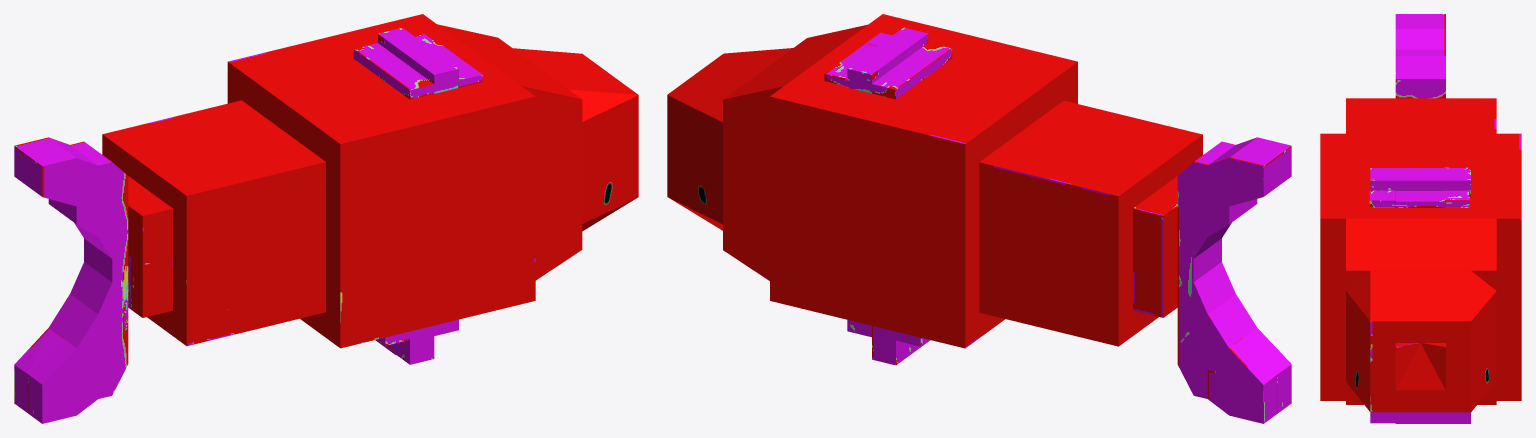
The model's file is dangerFish.obj.
3 views of the same model, side by side, from view 1: azimuth 30°, elevation 25°; view 2: azimuth 150°, elevation 25°; view 3: azimuth 270°, elevation 25° (orthographic). The views are drawn at different scales.
Visible parts, largest first — view 1: 立方体; view 2: 立方体; view 3: 立方体.
Part boxes in pixels (x1,y1,x2,y2): 立方体: (14, 14, 638, 423); 立方体: (667, 14, 1291, 423); 立方体: (1320, 14, 1521, 423).
Bounding box in the file's own units: 6.06 × 2.79 × 2.
Materials: 1 (1 with a texture image).
